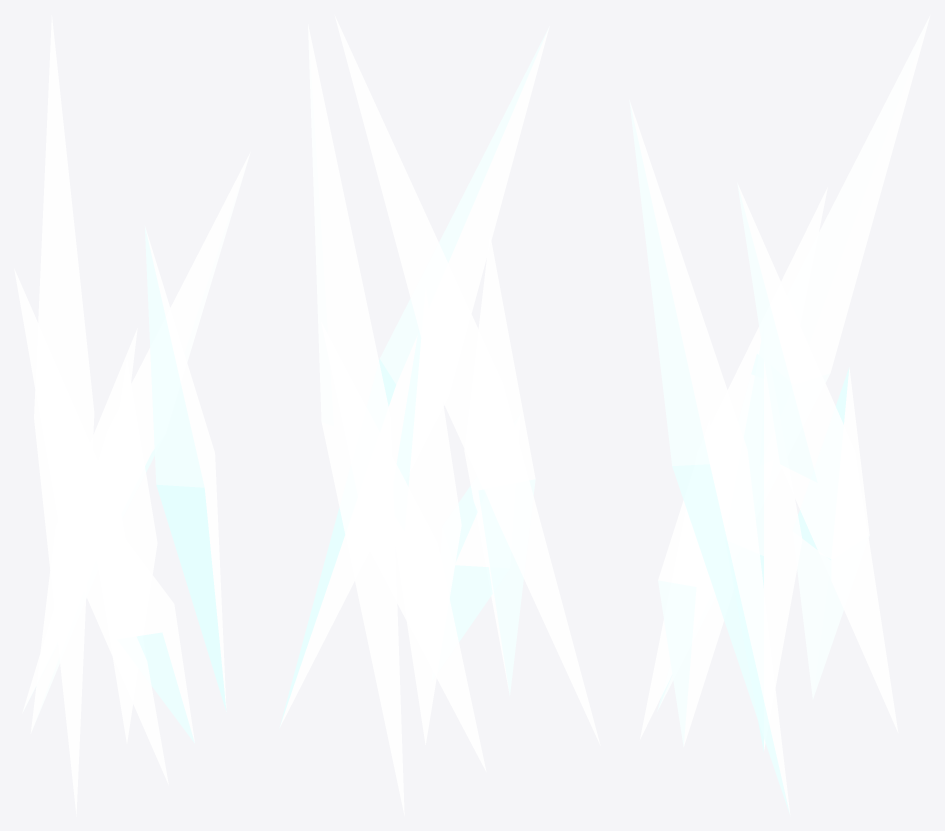
Rendered from crystal.glb.
The picture shows the model from 3 angles, left to right: view 1: azimuth 30°, elevation 25°; view 2: azimuth 150°, elevation 25°; view 3: azimuth 270°, elevation 25°; orthographic projection. The views are drawn at different scales.
Visible parts, largest first — view 1: crystal; view 2: crystal; view 3: crystal.
Part boxes in pixels (<box>): crystal: <box>14,15,250,816</box>; crystal: <box>279,15,600,815</box>; crystal: <box>629,15,930,815</box>.
Bounding box in the file's own units: 0.9674 × 3.01 × 1.09.
